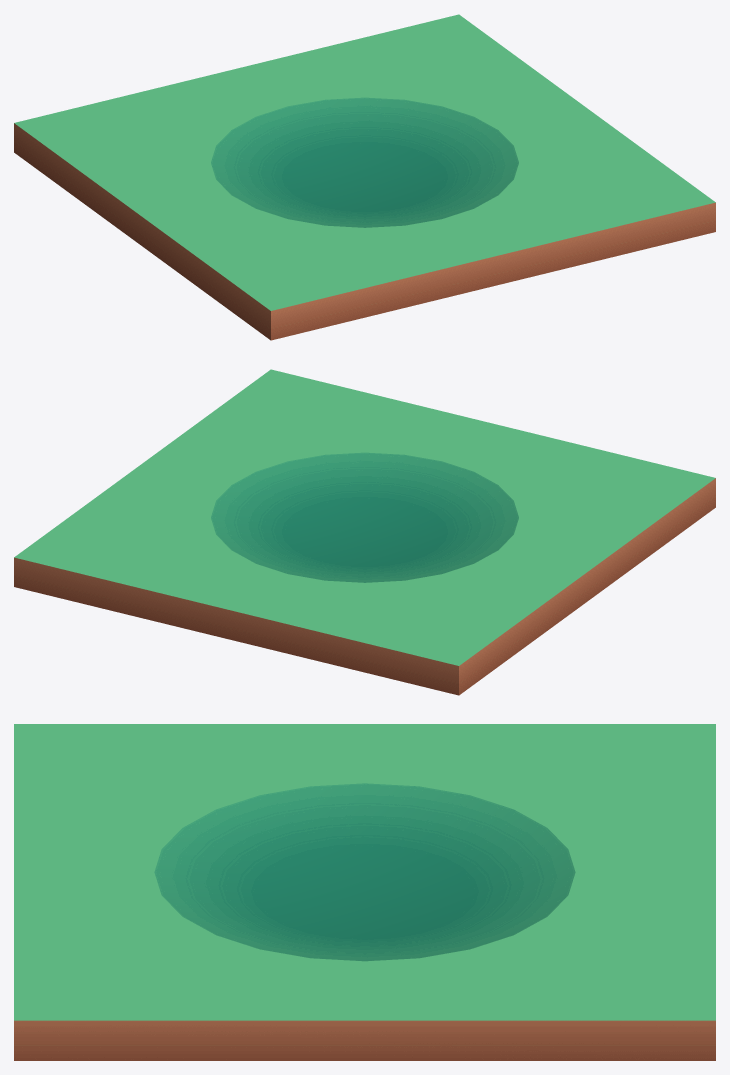
Rendered from bump-down.glb.
The picture shows the model from 3 angles, top to bottom: view 1: azimuth 30°, elevation 25°; view 2: azimuth 150°, elevation 25°; view 3: azimuth 270°, elevation 25°; orthographic projection. The views are drawn at different scales.
Visible parts, largest first — view 1: bump-down; view 2: bump-down; view 3: bump-down.
Boxes of the visible parts, x1,y1,x2,y2 form: bump-down: (14, 14, 715, 340); bump-down: (14, 369, 715, 695); bump-down: (14, 724, 715, 1060).
Size of the model in its own units: 0.9999 by 0.0633 by 0.9999.
Materials: 1 (1 with a texture image).
